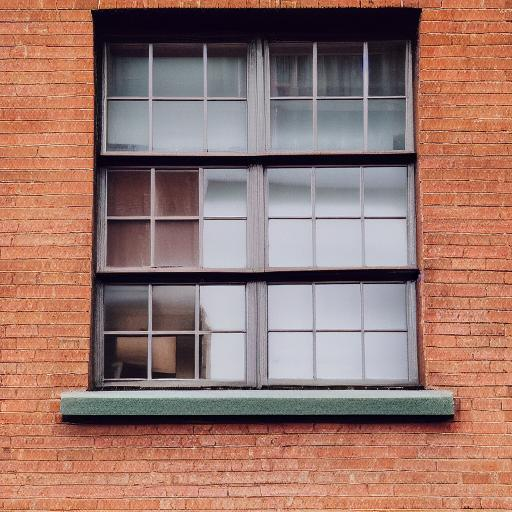Window: (61, 7, 456, 421)
